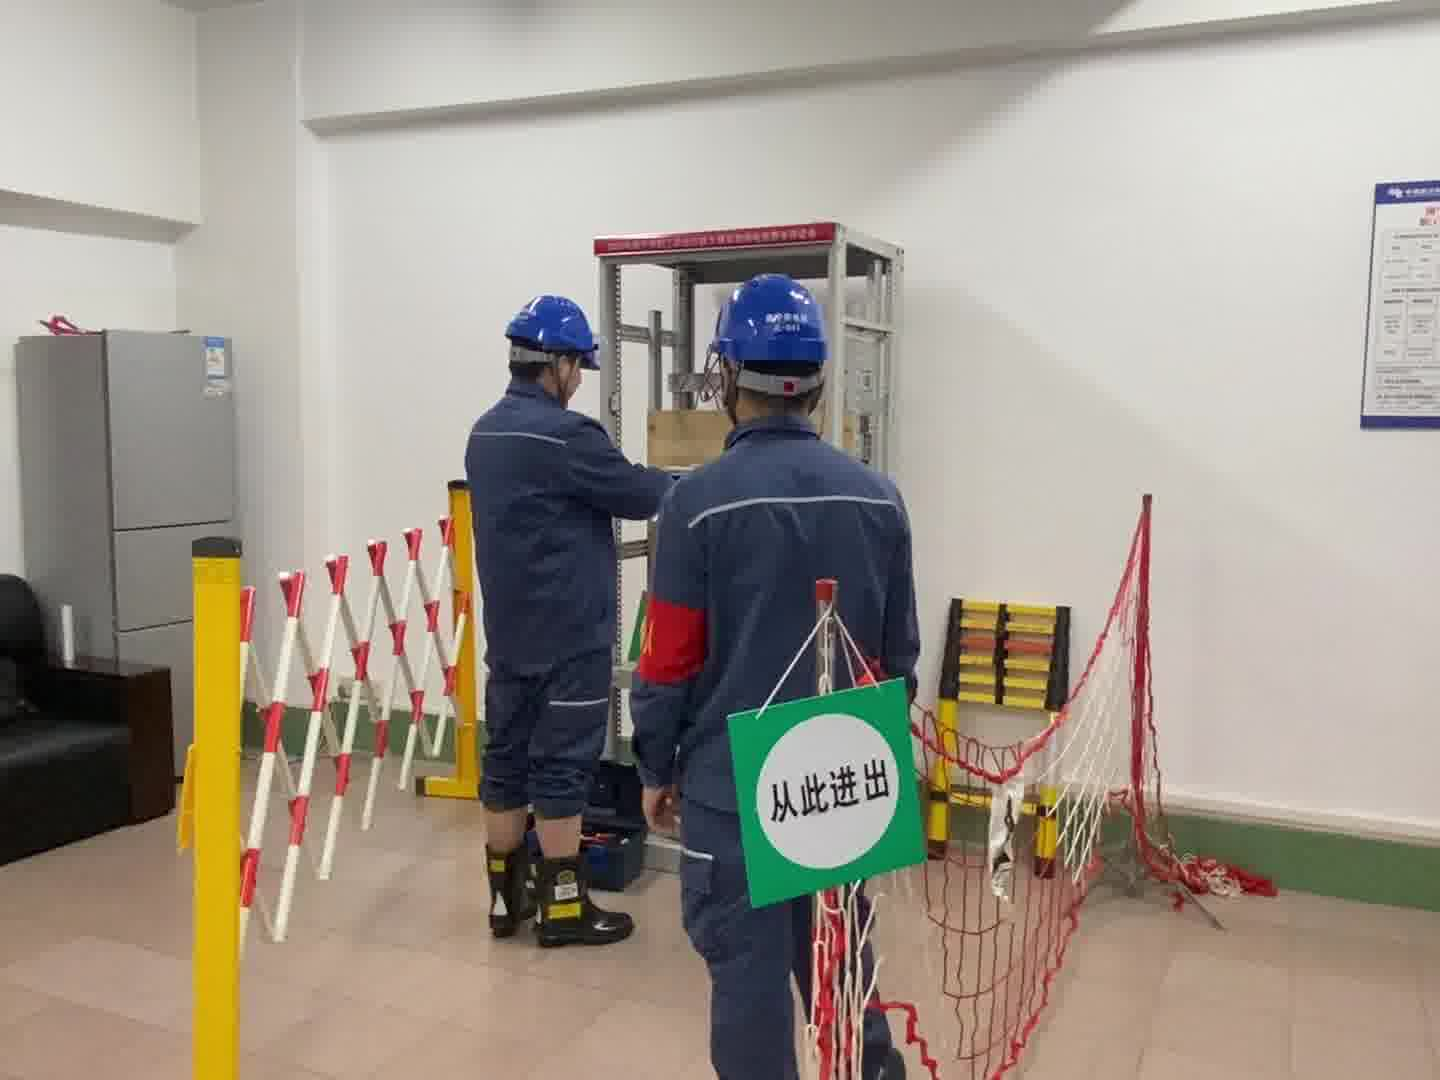badge: (638, 598, 710, 688)
downsuit: (671, 819, 804, 1080), (475, 681, 611, 810)
halt: (712, 274, 833, 422), (504, 294, 600, 397)
hand: (636, 780, 675, 840)
inear: (548, 348, 583, 397)
intosign: (721, 678, 931, 912)
person: (627, 269, 926, 1079), (458, 291, 653, 954)
shoe: (480, 848, 635, 952)
upsuit: (632, 427, 920, 730), (463, 377, 635, 638)
wrongbottom: (473, 773, 589, 859)
